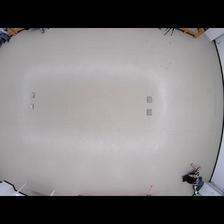fall: (181, 161, 206, 195)
